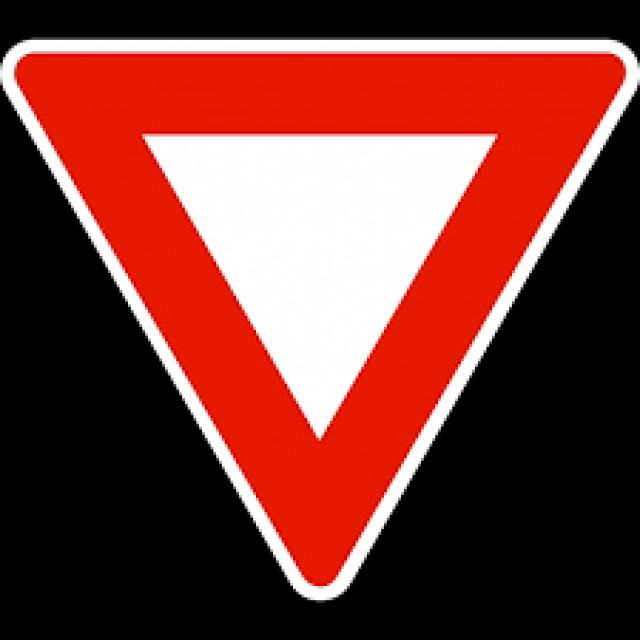Limite-50: (0, 41, 640, 603)
